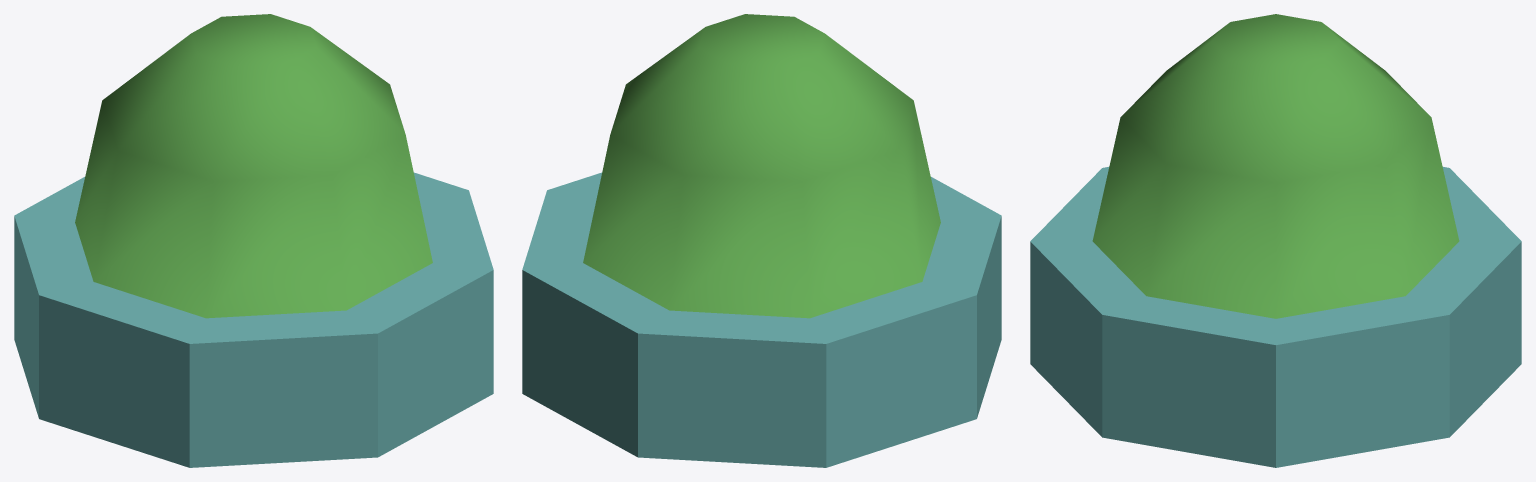
The model's file is OB_Lamp.fbx.
3 renders of one model, left to right at view 1: azimuth 30°, elevation 25°; view 2: azimuth 150°, elevation 25°; view 3: azimuth 270°, elevation 25°, orthographic.
Parts seen in each view (by area): view 1: OB_Lamp; view 2: OB_Lamp; view 3: OB_Lamp.
Boxes of the visible parts, <box> form: OB_Lamp: <box>14,14,493,467</box>; OB_Lamp: <box>522,14,1001,467</box>; OB_Lamp: <box>1030,14,1521,467</box>.
Size of the model in its own units: 43.51 by 31.54 by 43.51.
